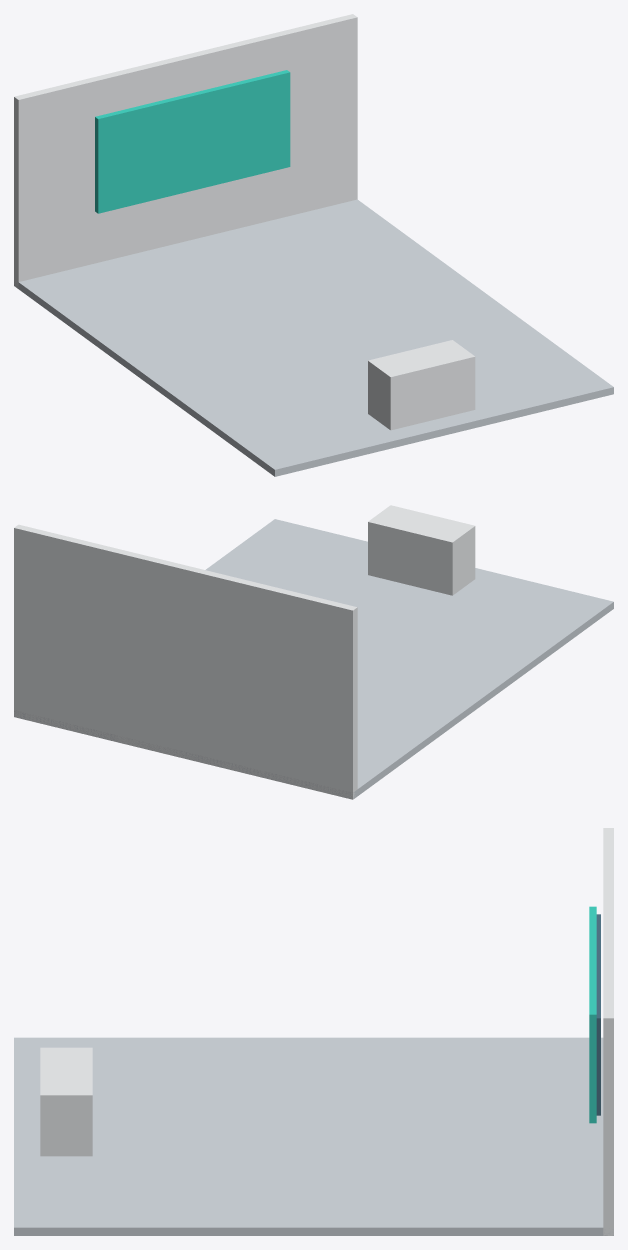
The picture shows the model from 3 angles, top to bottom: view 1: azimuth 30°, elevation 25°; view 2: azimuth 150°, elevation 25°; view 3: azimuth 270°, elevation 25°; orthographic projection. The views are drawn at different scales.
Parts seen in each view (by area): view 1: Exhibition Booth Concept; view 2: Exhibition Booth Concept; view 3: Exhibition Booth Concept.
Part boxes in pixels (box(x1,y1,x2,y2)): Exhibition Booth Concept: box(14, 14, 613, 476); Exhibition Booth Concept: box(14, 505, 613, 799); Exhibition Booth Concept: box(14, 828, 613, 1235).
Size of the model in its own units: 6 by 3.2 by 8.
